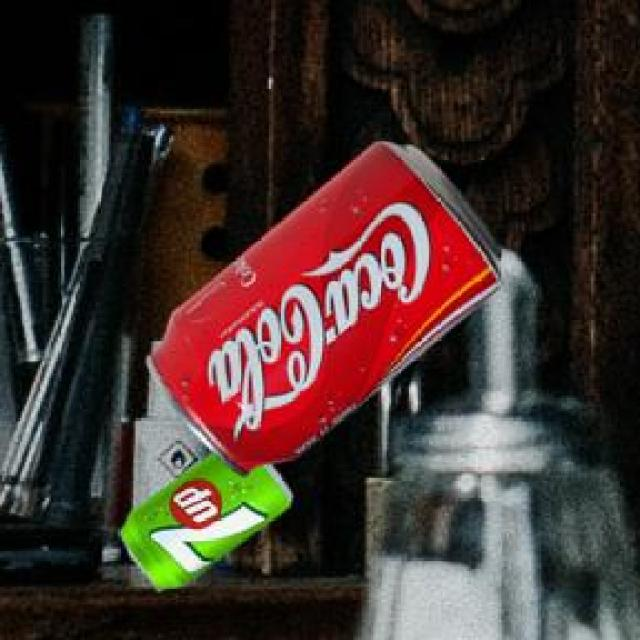logam: (143, 137, 497, 472), (117, 450, 288, 588)
